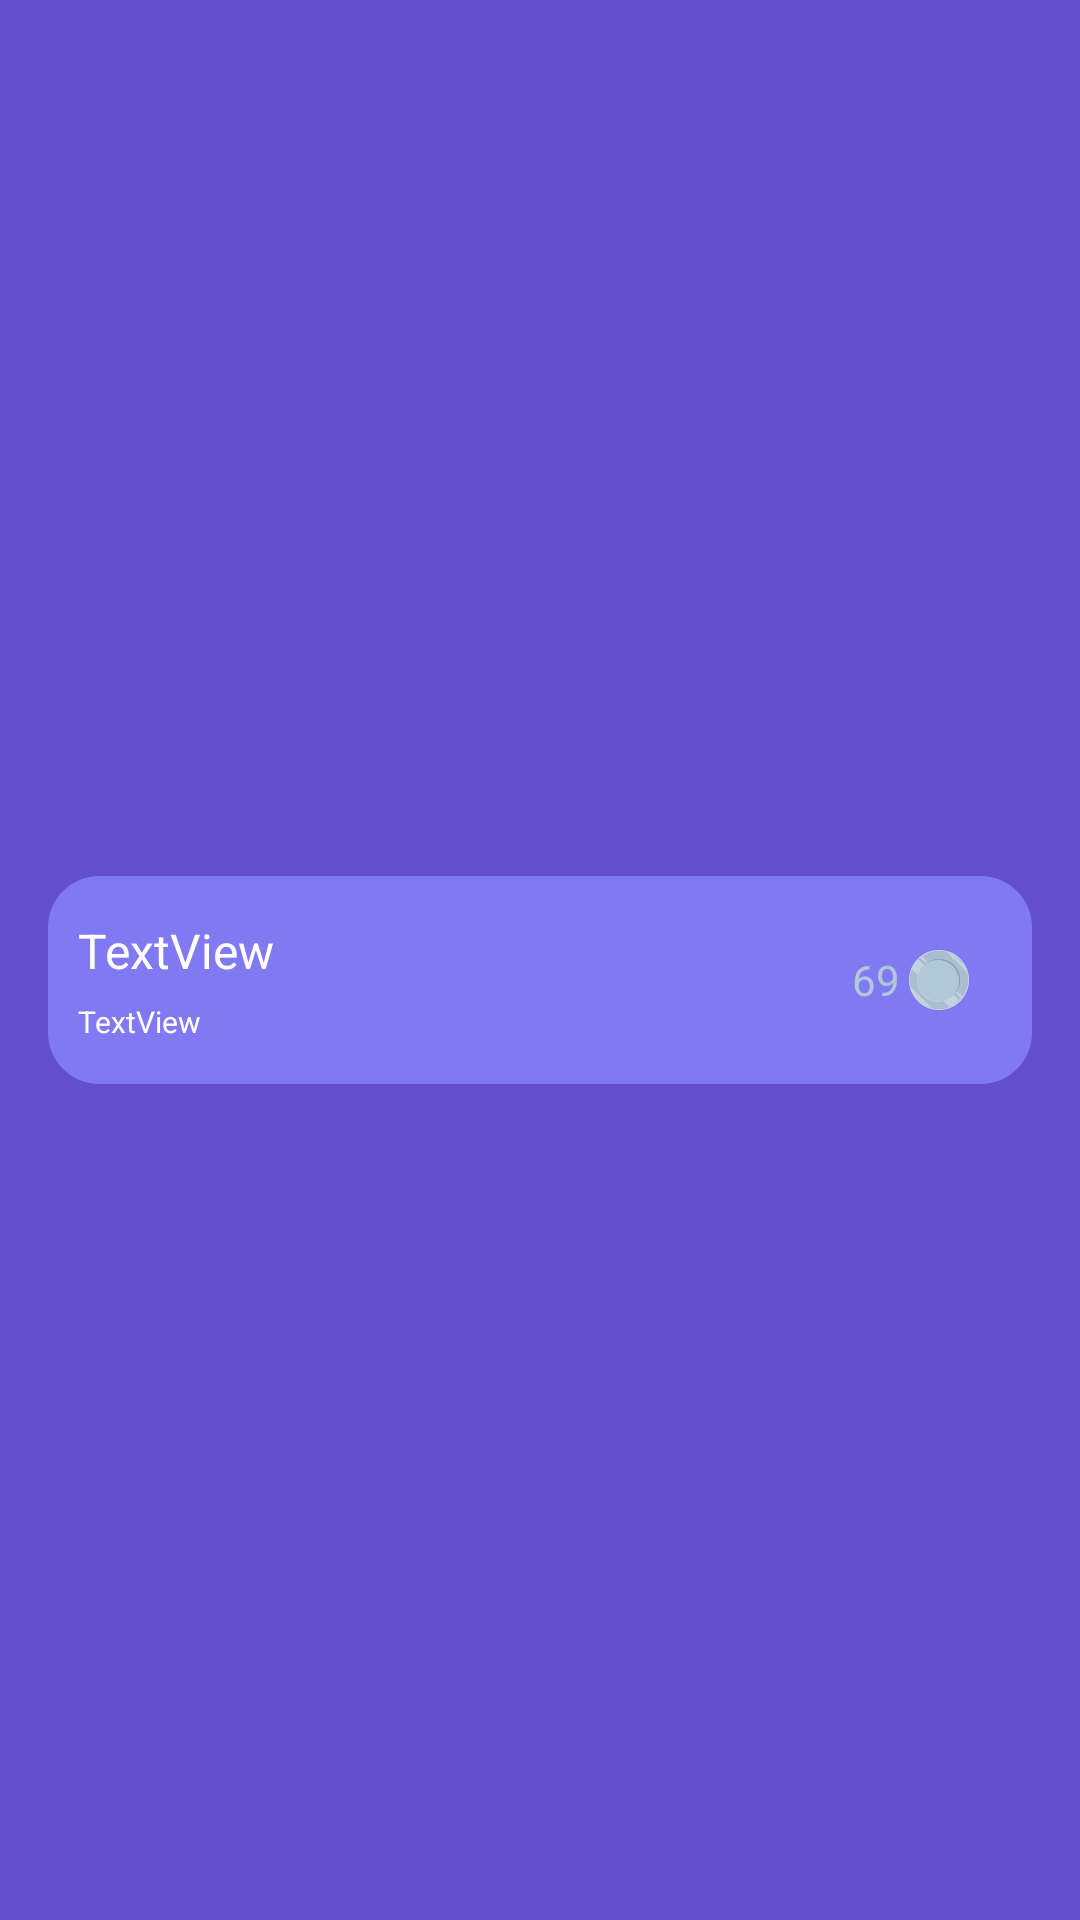

Icons on this 1080×1920 Android screen, each with its box as (x1, y1, x2, y2):
pic silver coin: (909, 950, 969, 1010)
